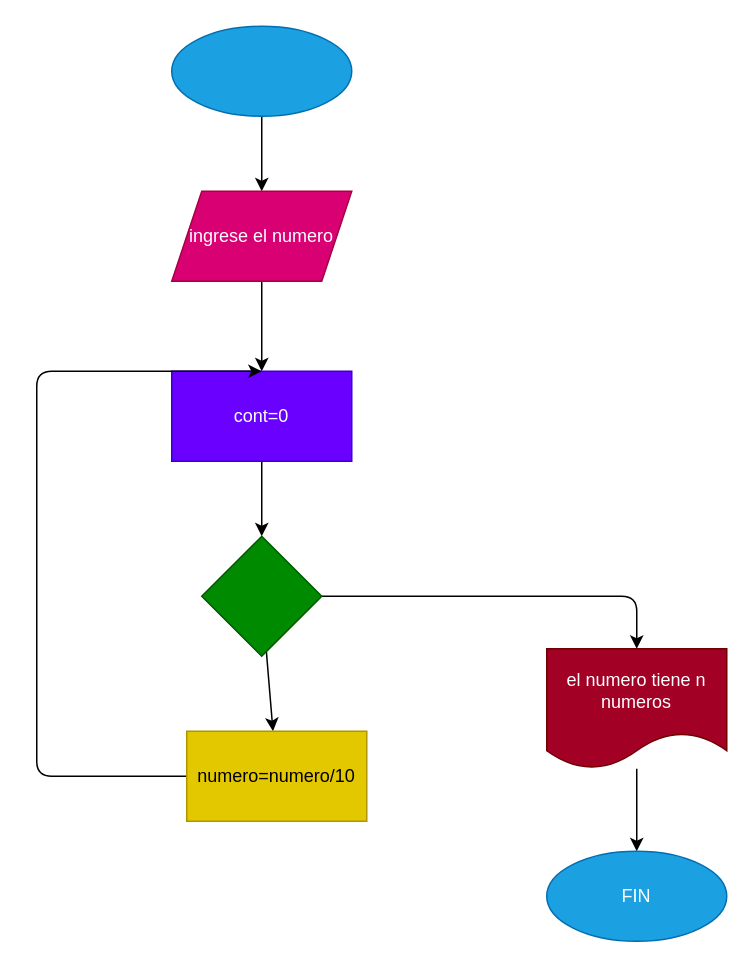
The diagram is 753 pixels wide and 968 high, and some of its shapes have lost their labels. Here are the shapes that lost their labels. From the top down, the centre of each, then its label:
At [261,70]: "INICIO".
At [261,595]: "numero=0".
